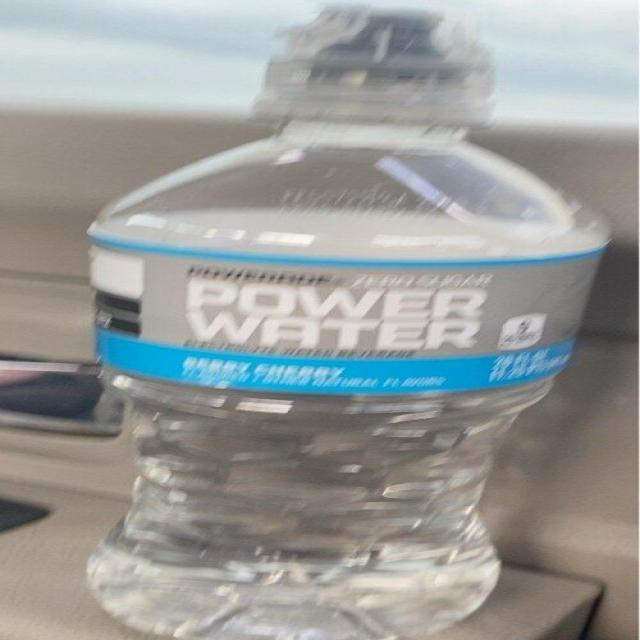bottle: (31, 0, 625, 640)
